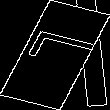L_E: (13, 32, 97, 78)
